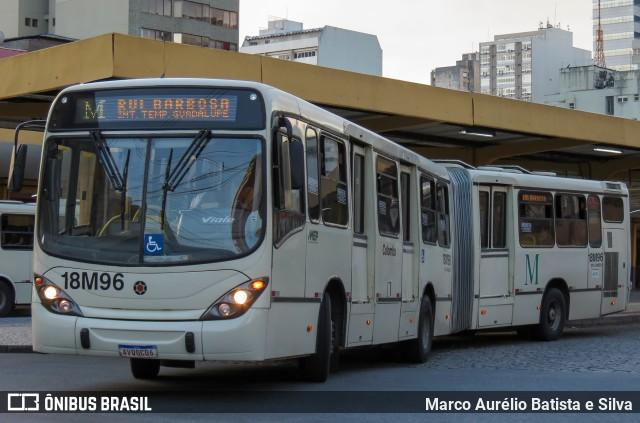RUI BARBBOSA: (114, 95, 234, 111)
